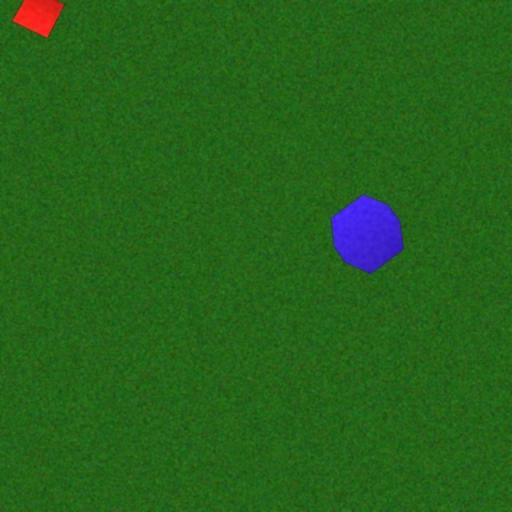RED_SQUARE: (11, 0, 66, 39)
